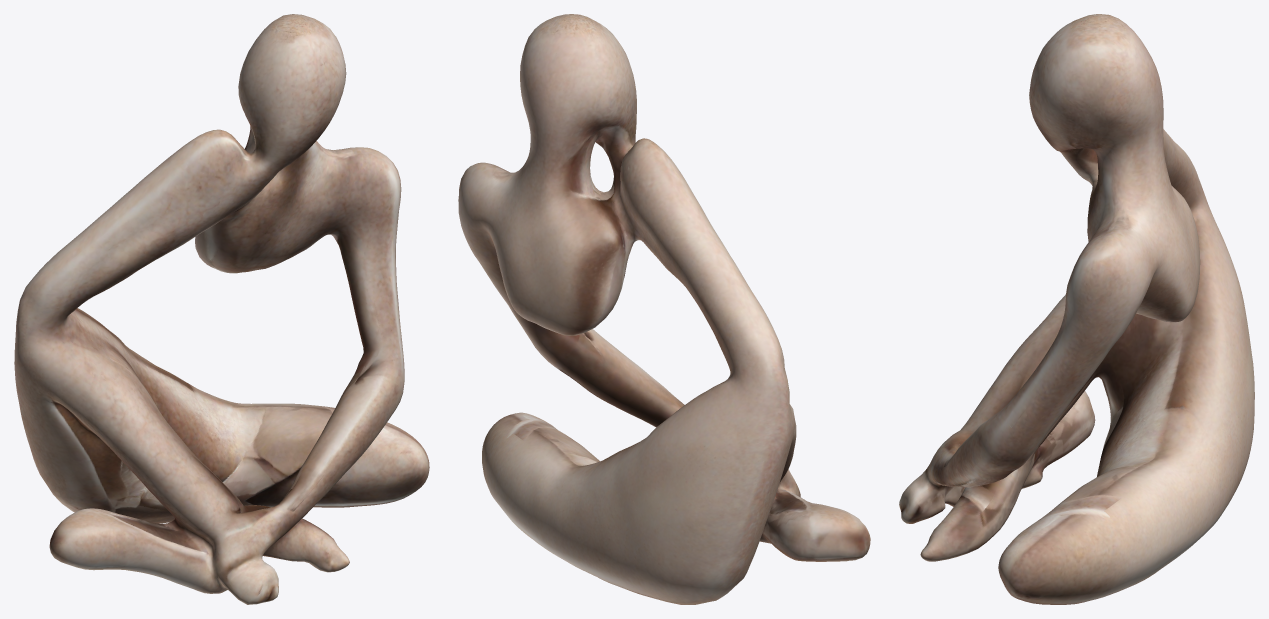
Rendered from WHAT_YOU_THINKING.glb.
The picture shows the model from 3 angles, left to right: view 1: azimuth 30°, elevation 25°; view 2: azimuth 150°, elevation 25°; view 3: azimuth 270°, elevation 25°; orthographic projection. The views are drawn at different scales.
Size of the model in its own units: 1.54 by 2 by 1.14.
1 material, 1 textured.
